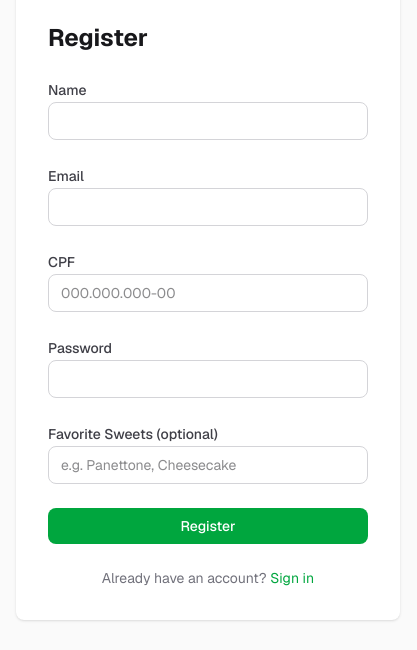
Test case: RegisterPage › validates email format
The width and height of the screenshot is (417, 650).
Type "John" into the field labelled "Name".
click(208, 121); type("John")  # box [48, 102, 368, 140]
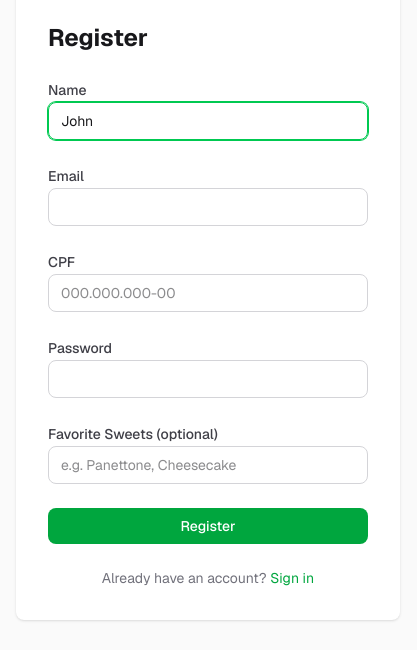
Type "invalid" into the field labelled "Email".
click(208, 207); type("invalid")  # box [48, 188, 368, 226]
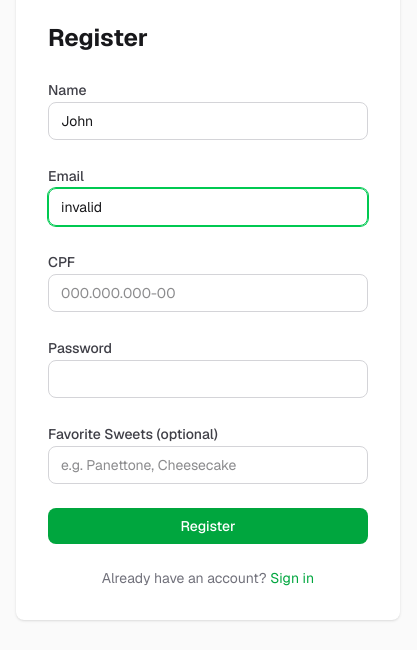
Type "52998224725" into the field labelled "CPF".
click(208, 293); type("52998224725")  # box [48, 274, 368, 312]
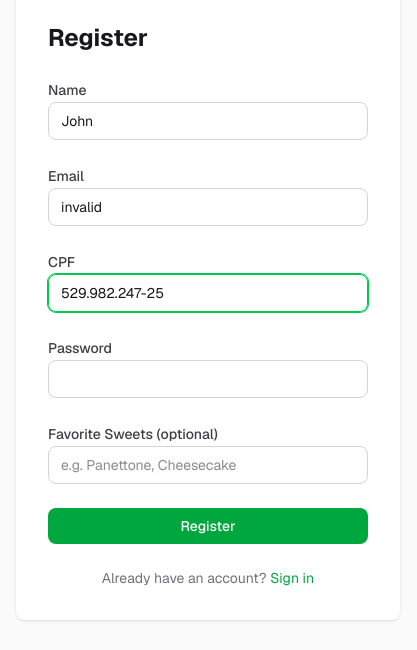
Type "password123" into the password field labelled "Password".
click(208, 379); type("password123")  # box [48, 360, 368, 398]
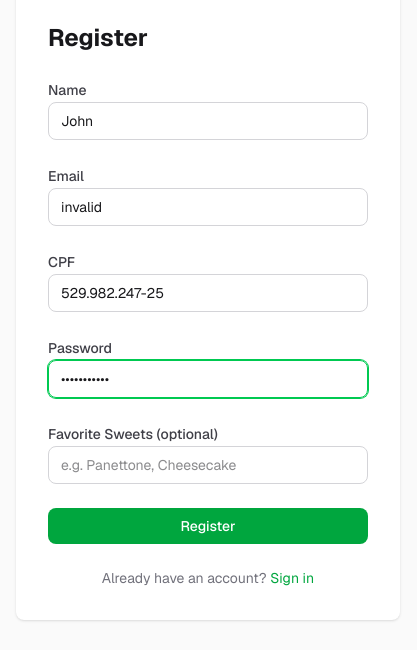
Click the button "Register".
click(208, 526)  # box [48, 508, 368, 544]
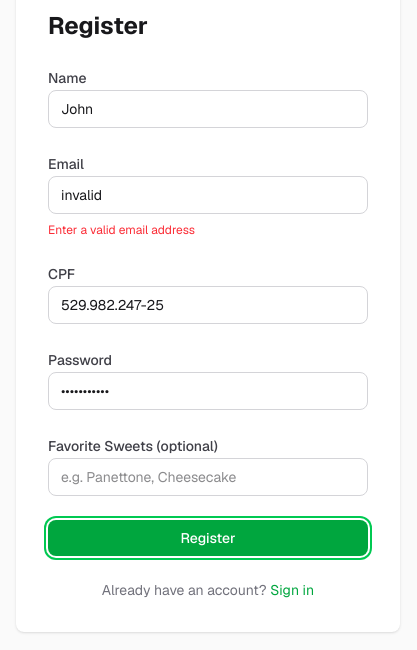
Expected: the text "Enter a valid email address" is shown, [48, 222, 195, 238]
